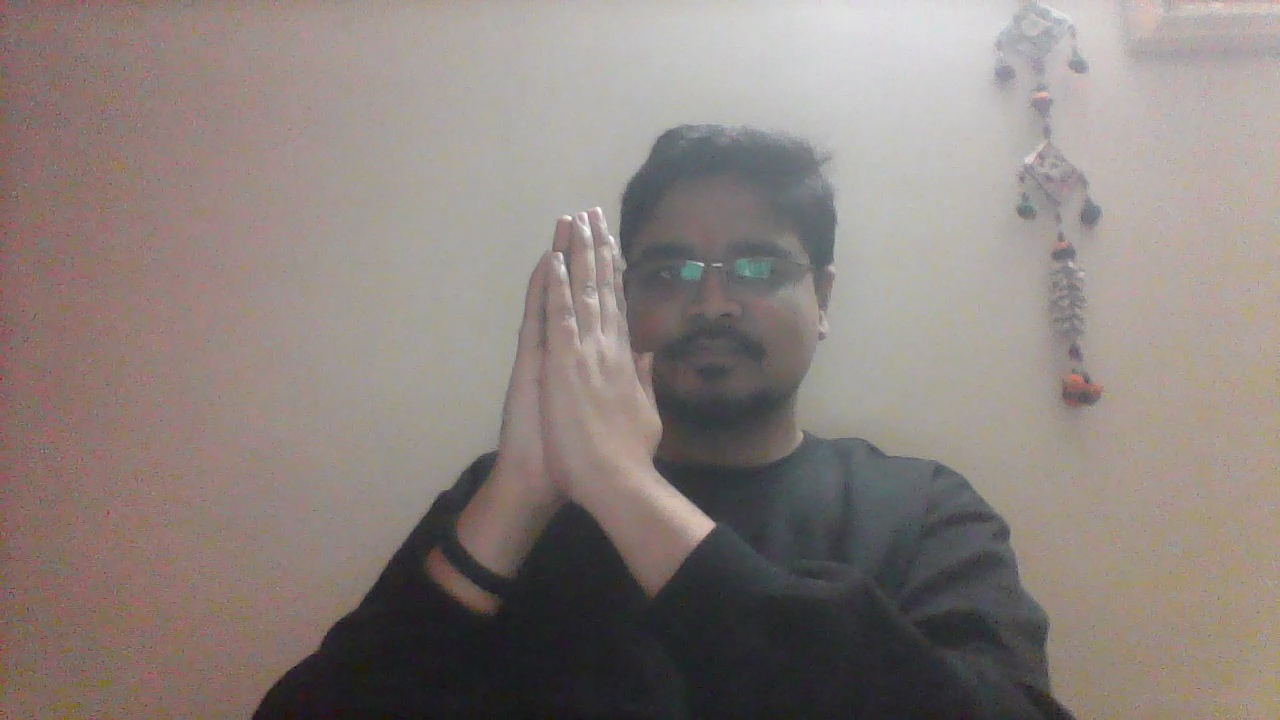Namaste: (489, 199, 670, 566)
